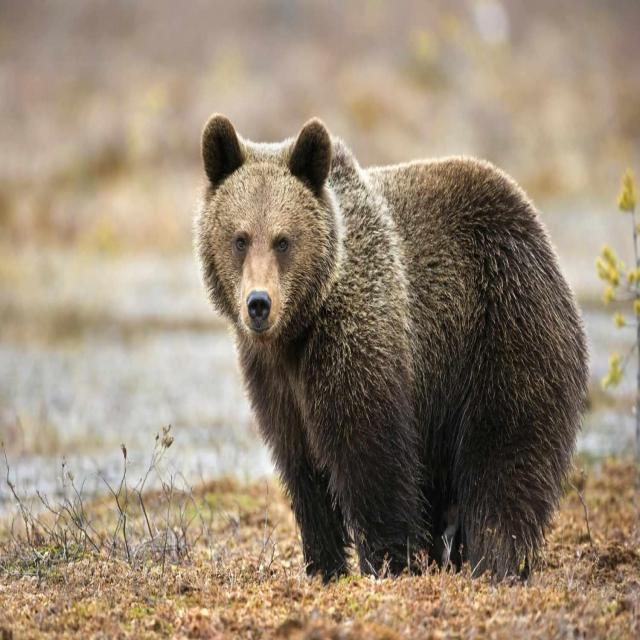Bear: (195, 116, 591, 586)
